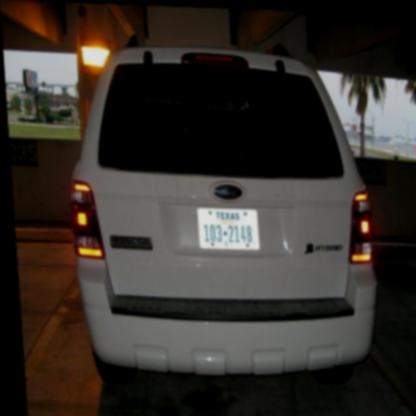License_Plate: (196, 208, 260, 251)
